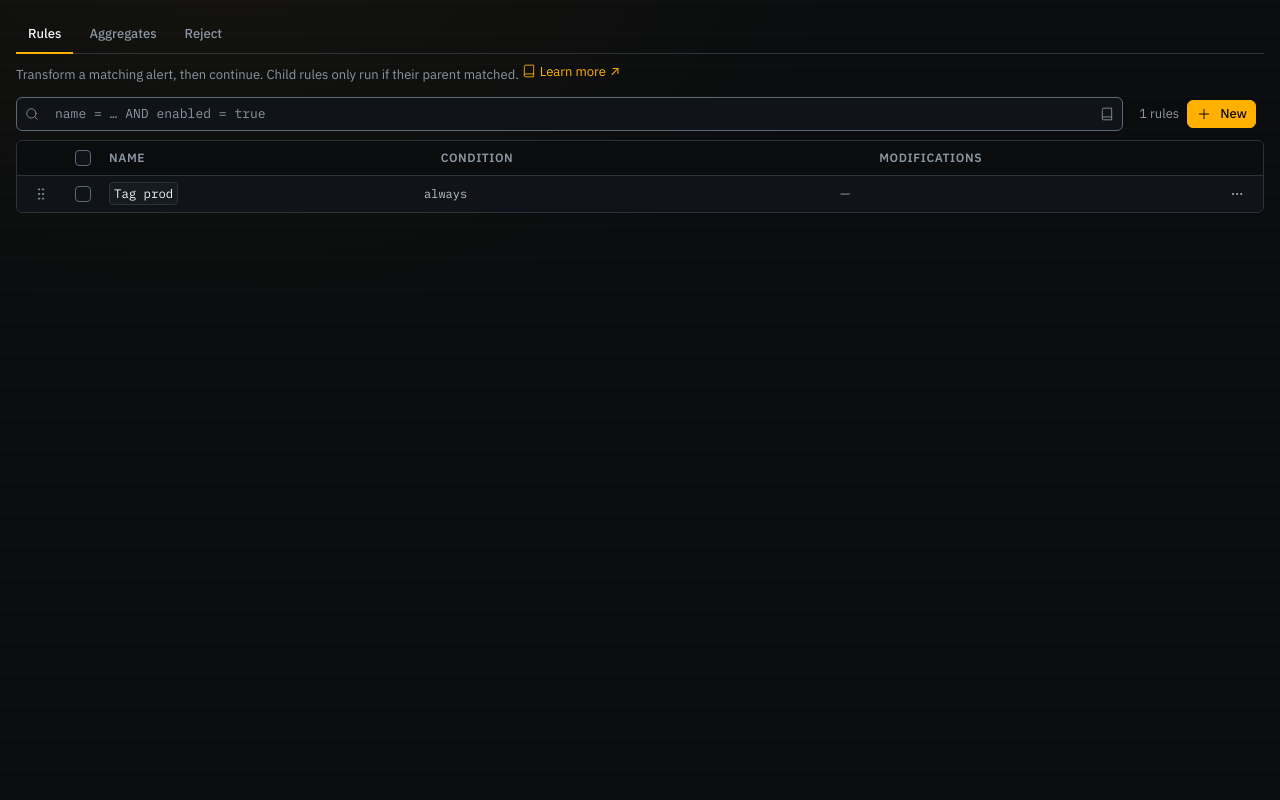
Scenario: RulesPage › Rules tab: row kebab View details opens the record/audit drawer
The image size is (1280, 800).
Expected: the text "Tag prod" is shown, [109,182,178,205]
Click the button named "row actions": (1237, 194) [1223,180,1251,208]
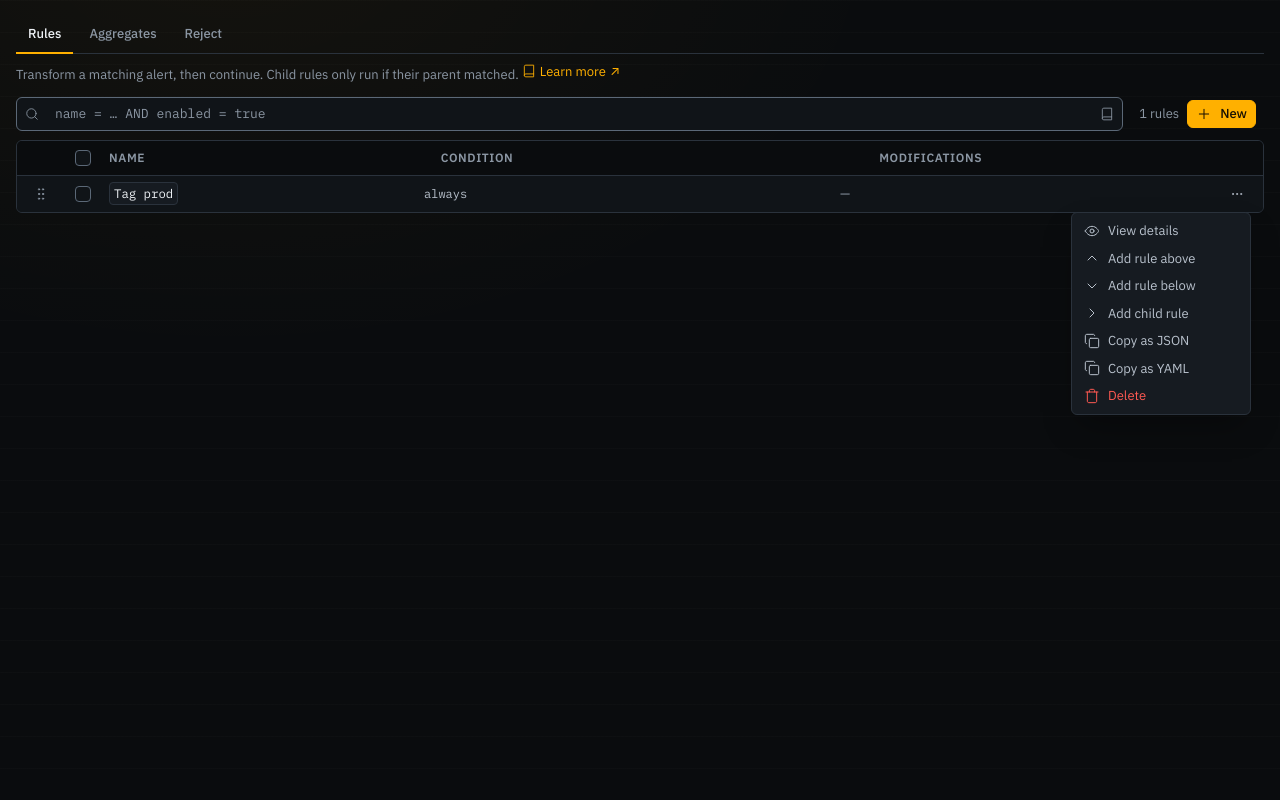
Click the menu item "View details": (1131, 230) [1084,222,1179,239]
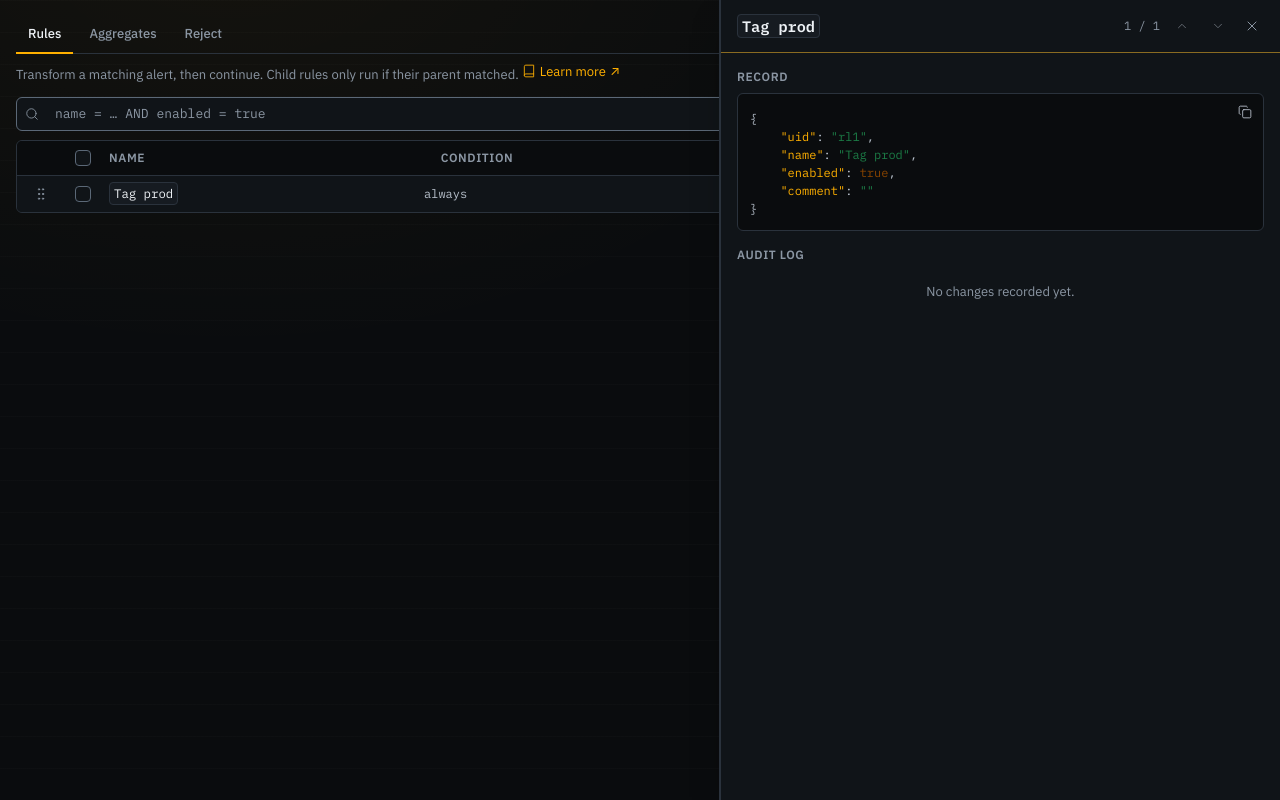
Expected: the dialog shows "Record", [737,69,788,84]
